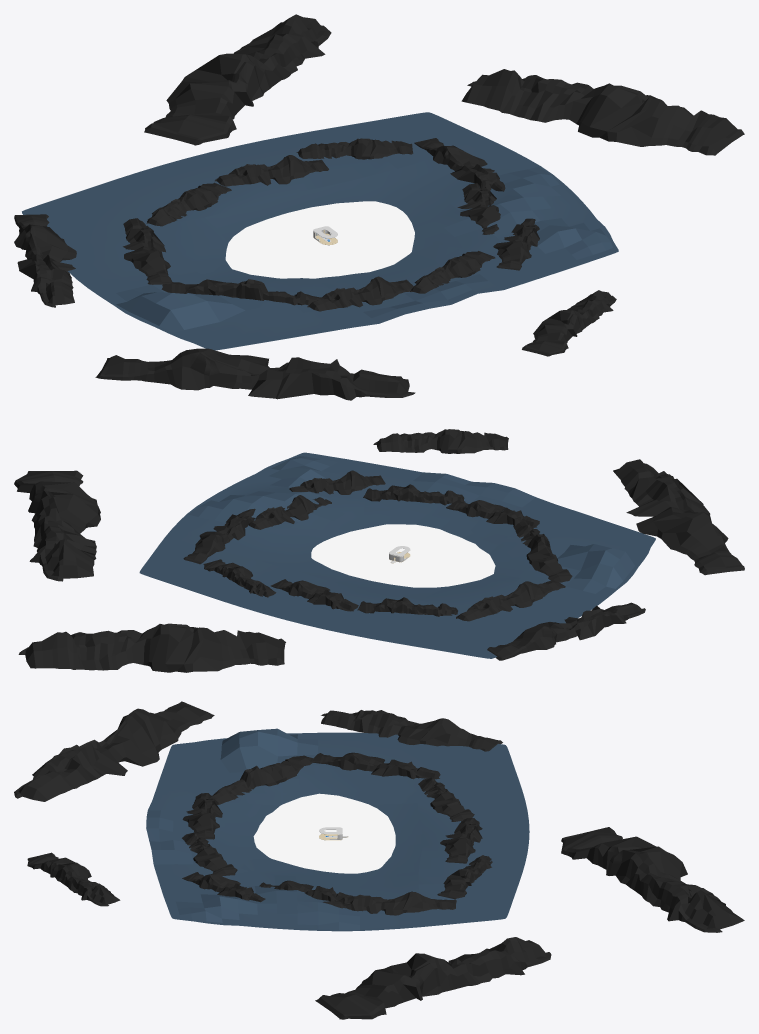
Rendered from Environment.gltf.
3 renders of one model, top to bottom at view 1: azimuth 30°, elevation 25°; view 2: azimuth 150°, elevation 25°; view 3: azimuth 270°, elevation 25°, orthographic. The views are drawn at different scales.
Visible parts, largest first — view 1: polySurface16, polySurface14, GridVisuals, polySurface15, polySurface13, polySurface12, polySurface11, polySurface3, polySurface5, polySurface6, polySurface7, polySurface1 (+5 smaller); view 2: polySurface16, polySurface15, GridVisuals, polySurface13, polySurface14, polySurface12, polySurface11, polySurface5, polySurface3, polySurface6, polySurface9, polySurface4 (+5 smaller); view 3: polySurface16, GridVisuals, polySurface14, polySurface15, polySurface13, polySurface12, polySurface11, polySurface6, polySurface3, polySurface5, polySurface7, polySurface1 (+5 smaller).
Part boxes in pixels (x1,y1,x2,y2): polySurface16: [22, 112, 618, 350]; polySurface14: [461, 69, 744, 155]; GridVisuals: [225, 201, 414, 278]; polySurface15: [144, 14, 331, 145]; polySurface13: [95, 348, 415, 400]; polySurface12: [14, 214, 76, 307]; polySurface11: [522, 290, 616, 356]; polySurface3: [161, 279, 323, 305]; polySurface5: [123, 218, 172, 284]; polySurface6: [414, 138, 505, 191]; polySurface7: [215, 155, 328, 186]; polySurface1: [307, 276, 413, 311]; polySurface16: [139, 452, 655, 658]; polySurface15: [18, 623, 285, 672]; GridVisuals: [311, 524, 495, 587]; polySurface13: [613, 459, 744, 575]; polySurface14: [14, 470, 100, 581]; polySurface12: [487, 602, 645, 660]; polySurface11: [373, 429, 508, 453]; polySurface5: [456, 579, 565, 621]; polySurface3: [513, 521, 572, 582]; polySurface6: [183, 508, 255, 564]; polySurface9: [249, 495, 331, 529]; polySurface4: [289, 470, 385, 494]; polySurface16: [146, 728, 529, 931]; GridVisuals: [253, 793, 395, 873]; polySurface14: [315, 937, 551, 1019]; polySurface15: [561, 827, 744, 932]; polySurface13: [14, 701, 214, 801]; polySurface12: [321, 710, 502, 751]; polySurface11: [27, 852, 120, 906]; polySurface6: [323, 891, 456, 915]; polySurface3: [209, 755, 314, 804]; polySurface5: [310, 752, 440, 779]; polySurface7: [440, 818, 482, 863]; polySurface1: [182, 793, 222, 839].
Size of the model in its own units: 912 by 39.67 by 894.
